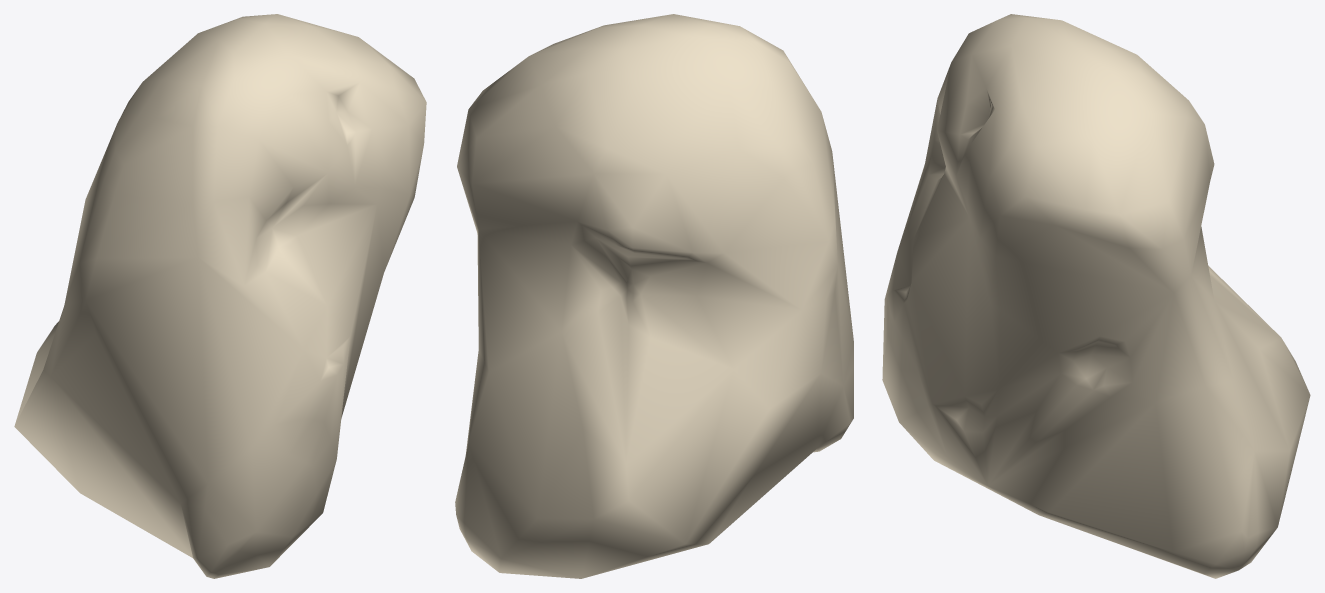
File: capitate-bone-r.glb
3 views of the same model, side by side, from view 1: azimuth 30°, elevation 25°; view 2: azimuth 150°, elevation 25°; view 3: azimuth 270°, elevation 25° (orthographic). The views are drawn at different scales.
Parts seen in each view (by area): view 1: Capitate bone.r; view 2: Capitate bone.r; view 3: Capitate bone.r.
Boxes of the visible parts, <box> form: Capitate bone.r: <box>14,14,426,578</box>; Capitate bone.r: <box>455,14,853,578</box>; Capitate bone.r: <box>882,14,1310,578</box>.
Size of the model in its own units: 0.0166 by 0.0234 by 0.018.
